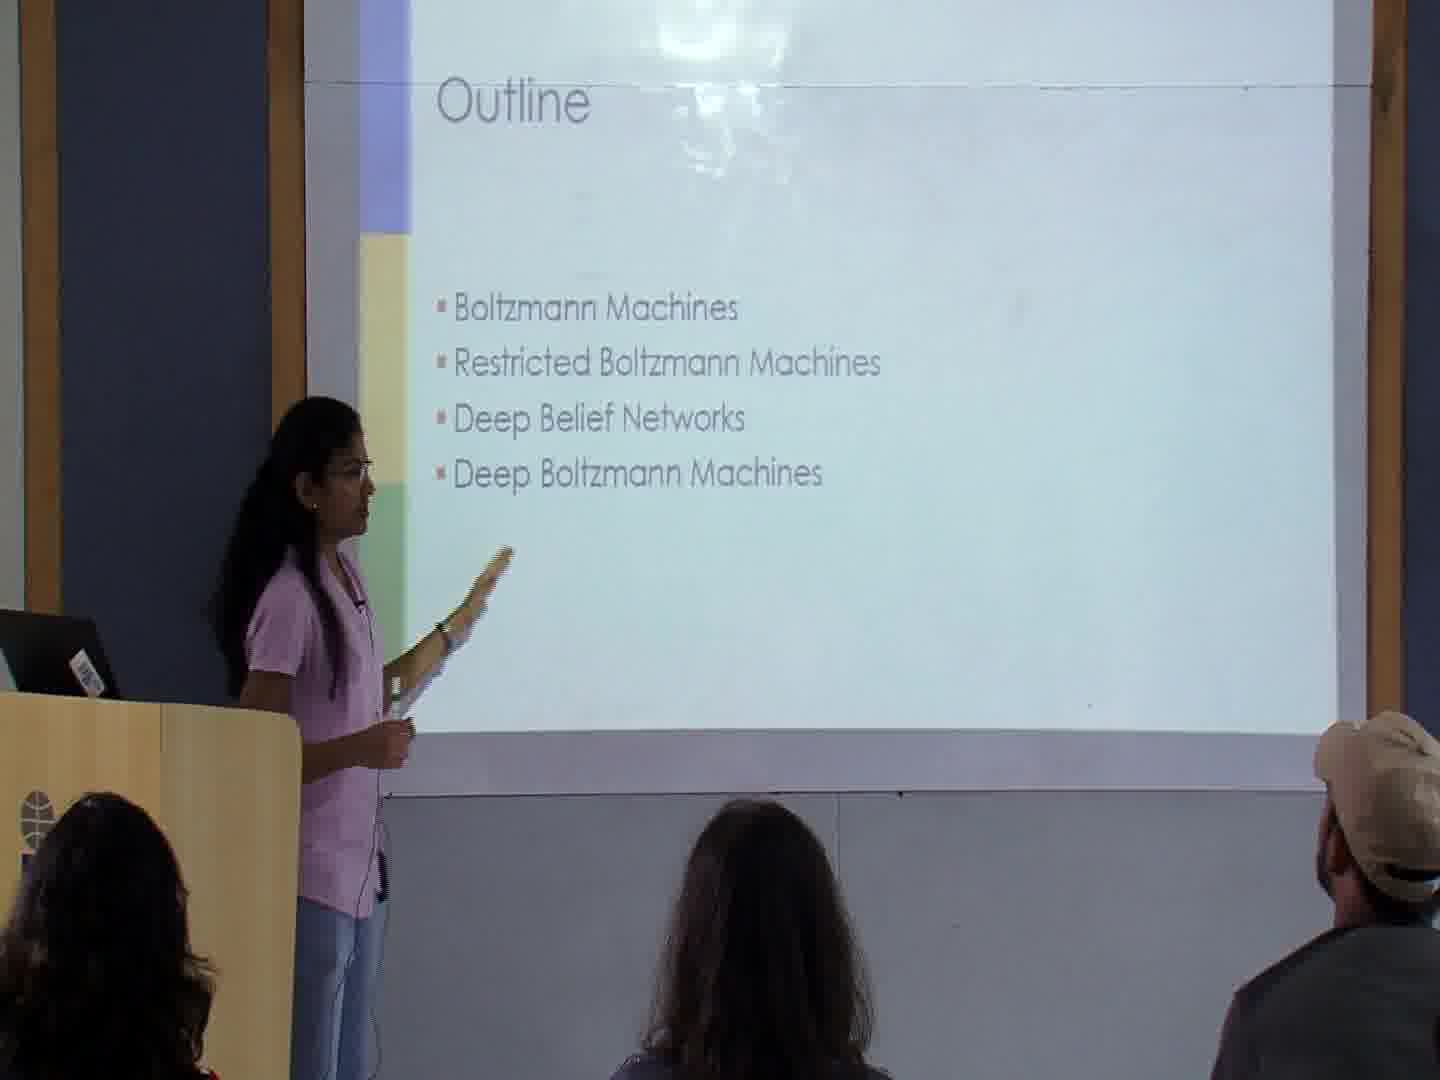slide: (358, 1, 1337, 732)
